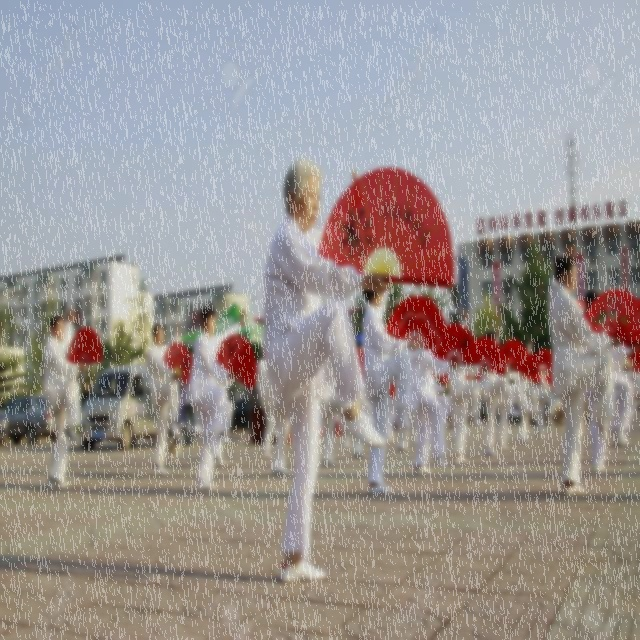pessoa: (262, 157, 394, 584), (546, 242, 618, 496), (4, 540, 271, 604), (362, 271, 422, 495), (74, 481, 563, 506), (186, 303, 248, 497), (43, 306, 82, 490), (409, 345, 458, 477), (144, 322, 183, 481), (446, 309, 486, 464), (478, 318, 522, 458), (588, 371, 634, 474), (496, 364, 540, 452), (506, 338, 541, 444), (321, 358, 354, 468), (255, 342, 279, 461), (213, 376, 234, 466), (532, 372, 556, 440), (174, 374, 196, 446), (432, 376, 451, 430), (610, 340, 640, 374), (341, 432, 366, 460), (359, 376, 372, 418), (629, 373, 640, 422), (386, 398, 396, 444), (408, 406, 418, 442), (395, 427, 409, 452), (80, 380, 92, 408), (356, 338, 364, 376), (446, 412, 454, 443), (622, 420, 631, 440), (132, 378, 142, 396), (556, 398, 562, 427), (112, 379, 121, 394), (621, 374, 628, 380), (466, 428, 470, 436)
